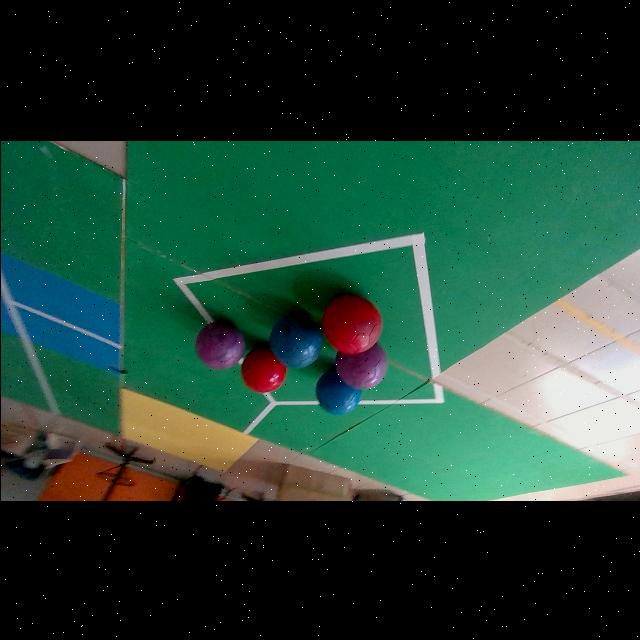B: (269, 311, 322, 367), (315, 367, 361, 414)
P: (194, 320, 244, 369), (335, 342, 386, 389)
R: (321, 294, 381, 353), (241, 345, 286, 392)
